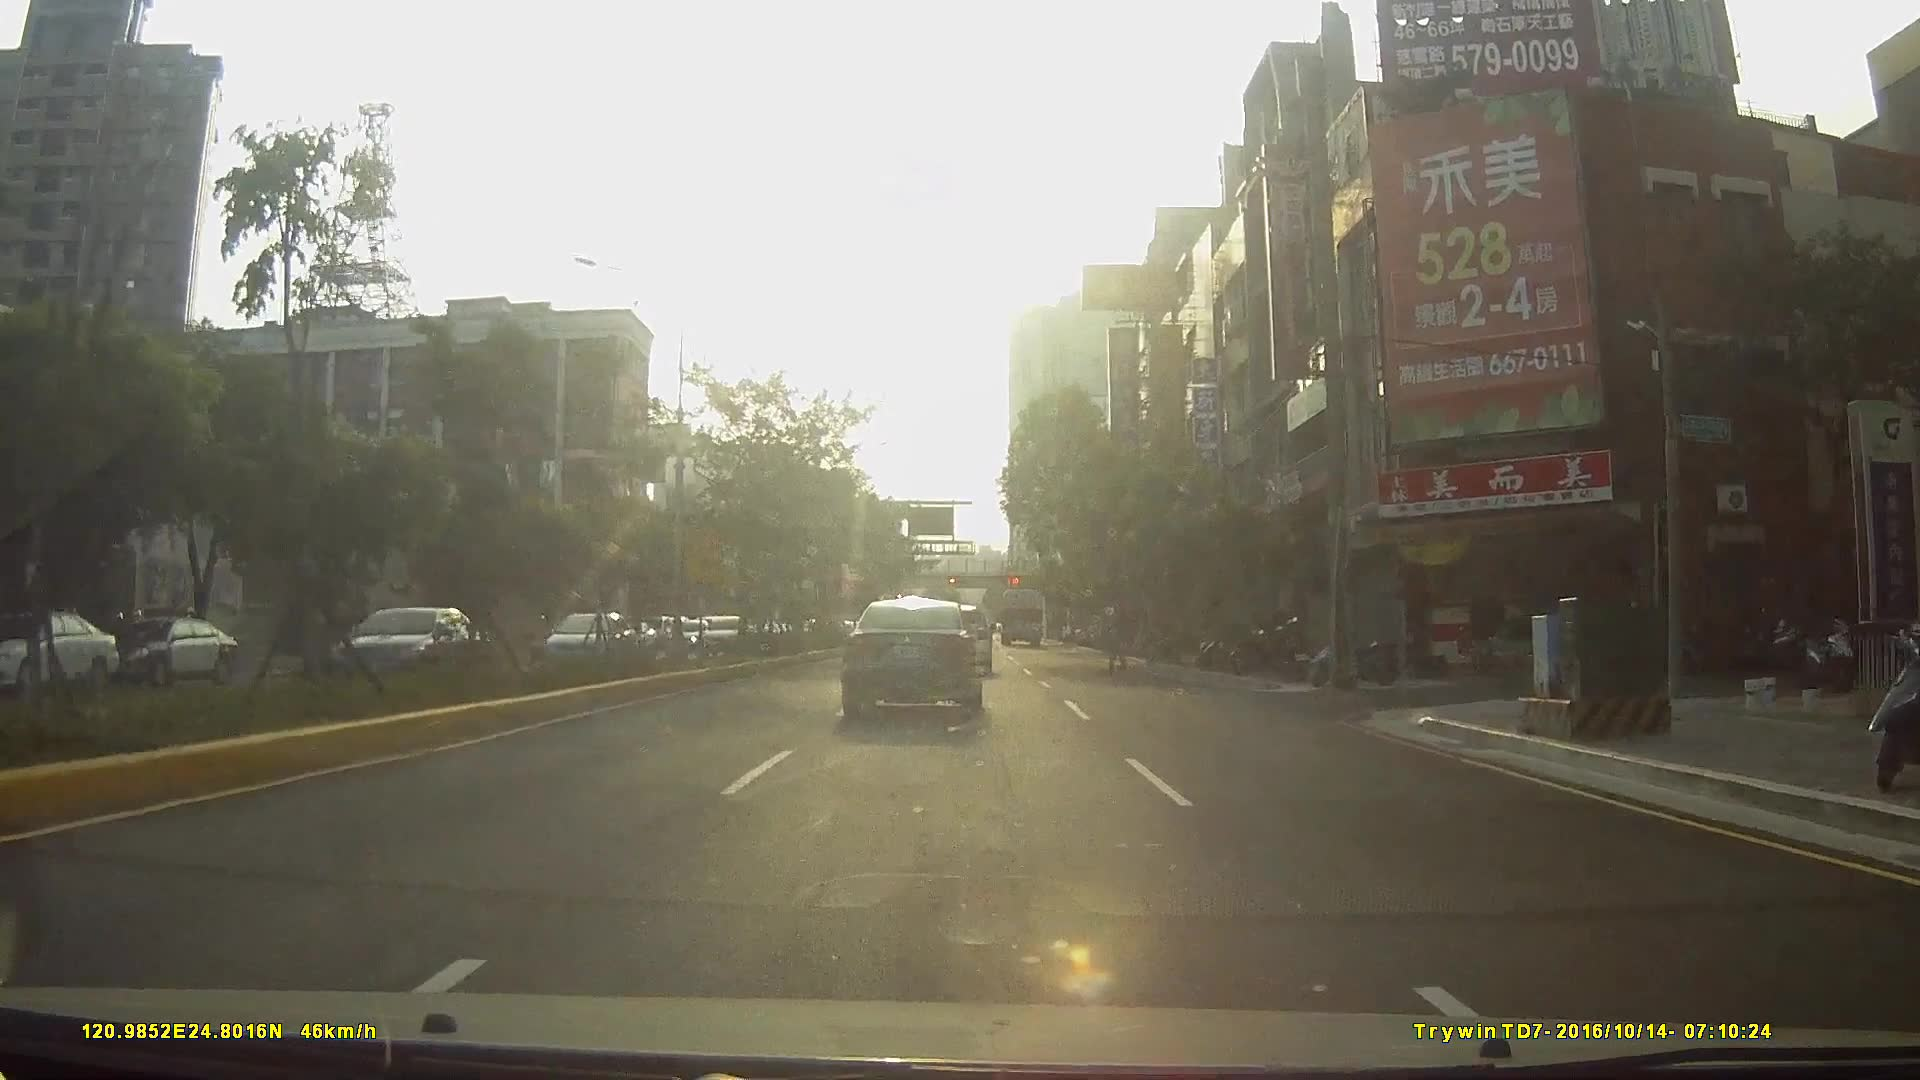pedestrian: (1101, 610, 1135, 680)
vehicle: (837, 598, 983, 722), (319, 609, 483, 692), (92, 613, 233, 692), (0, 610, 109, 701), (535, 610, 642, 682), (305, 613, 401, 681), (692, 616, 754, 664), (999, 589, 1043, 650), (570, 622, 617, 665)
